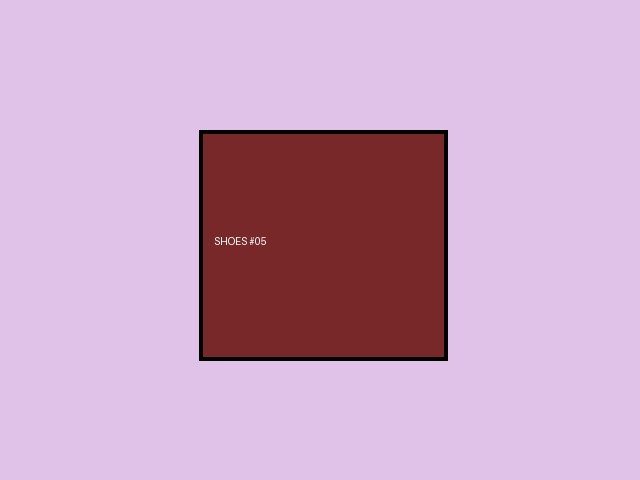shoes: (199, 130, 447, 360)
